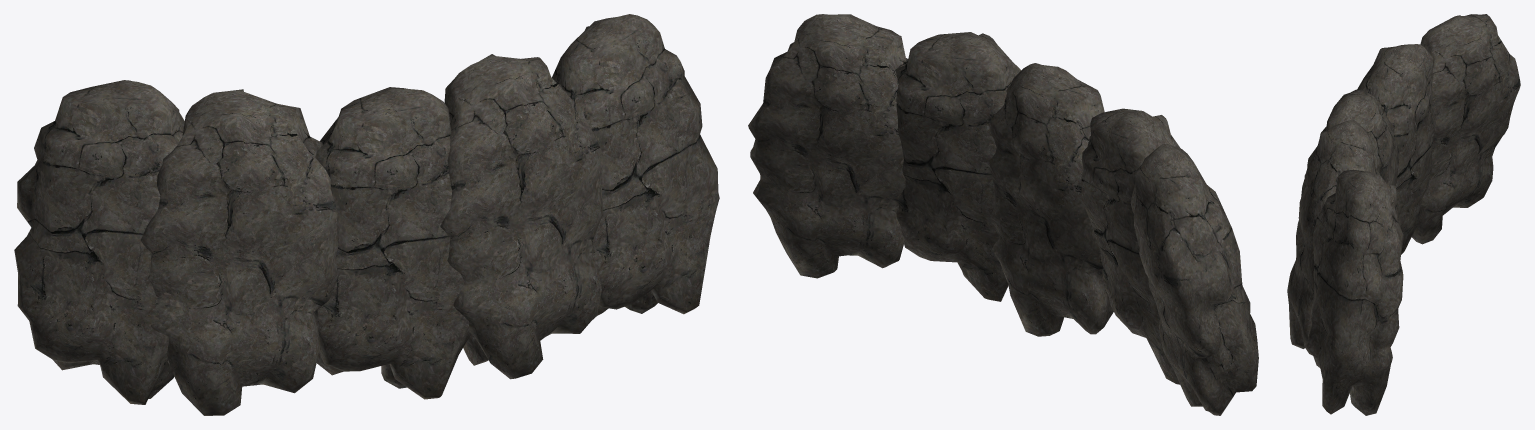
File: TwinPeakRocksShape11.dae
The picture shows the model from 3 angles, left to right: view 1: azimuth 30°, elevation 25°; view 2: azimuth 150°, elevation 25°; view 3: azimuth 270°, elevation 25°; orthographic projection. The views are drawn at different scales.
Visible parts, largest first — view 1: TwinPeakRocks11; view 2: TwinPeakRocks11; view 3: TwinPeakRocks11.
Part boxes in pixels (x1=…): TwinPeakRocks11: x1=14, y1=14, x2=719, y2=415; TwinPeakRocks11: x1=748, y1=14, x2=1258, y2=415; TwinPeakRocks11: x1=1287, y1=14, x2=1520, y2=415.
Bounding box in the file's own units: 485 × 232 × 208.
